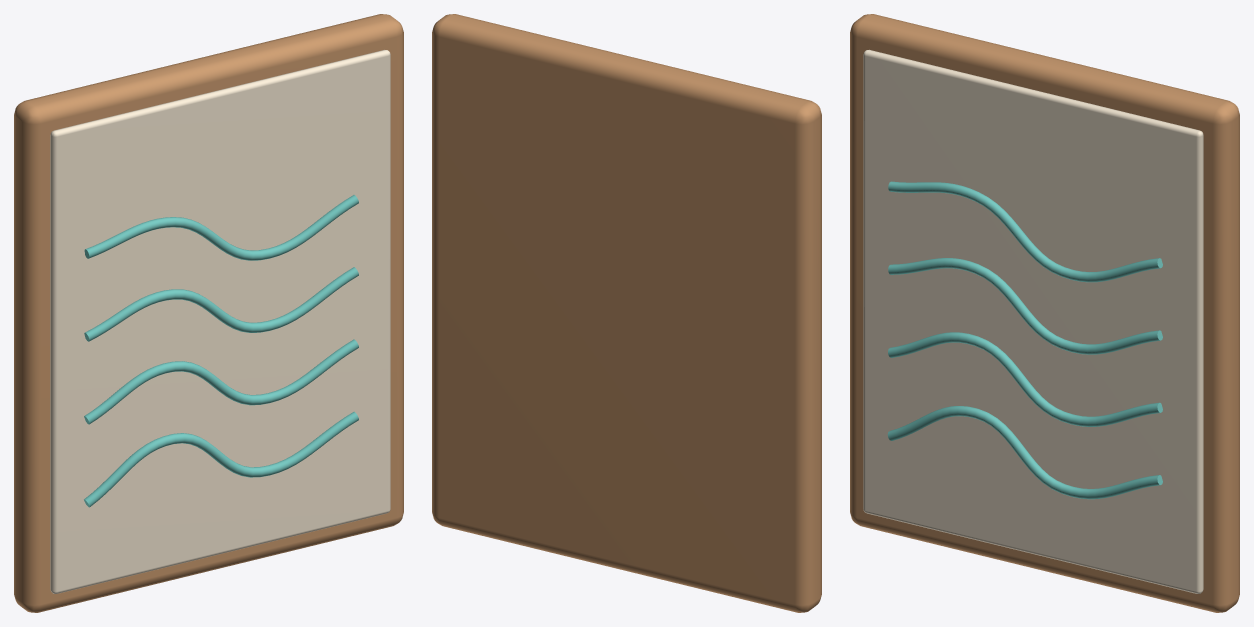
Rendered from posterMap.glb.
The picture shows the model from 3 angles, left to right: view 1: azimuth 30°, elevation 25°; view 2: azimuth 150°, elevation 25°; view 3: azimuth 330°, elevation 25°; orthographic projection.
Visible parts, largest first — view 1: Paper, Frame, Map route, Map route.001, Map route.002, Map route.003; view 2: Frame; view 3: Paper, Frame, Map route, Map route.001, Map route.002, Map route.003.
Boxes of the visible parts, left/top/right/bottom form: Paper: left=50, top=49, right=390, bottom=593; Frame: left=14, top=14, right=403, bottom=612; Map route: left=84, top=411, right=358, bottom=507; Map route.001: left=84, top=339, right=358, bottom=424; Map route.002: left=84, top=267, right=358, bottom=341; Map route.003: left=84, top=195, right=358, bottom=260; Frame: left=432, top=14, right=821, bottom=612; Paper: left=863, top=49, right=1203, bottom=593; Frame: left=850, top=14, right=1239, bottom=612; Map route: left=887, top=406, right=1162, bottom=499; Map route.001: left=888, top=332, right=1162, bottom=426; Map route.002: left=888, top=258, right=1162, bottom=354; Map route.003: left=888, top=181, right=1162, bottom=282.
Bounding box in the file's own units: 1.1 × 1.4 × 0.143.
